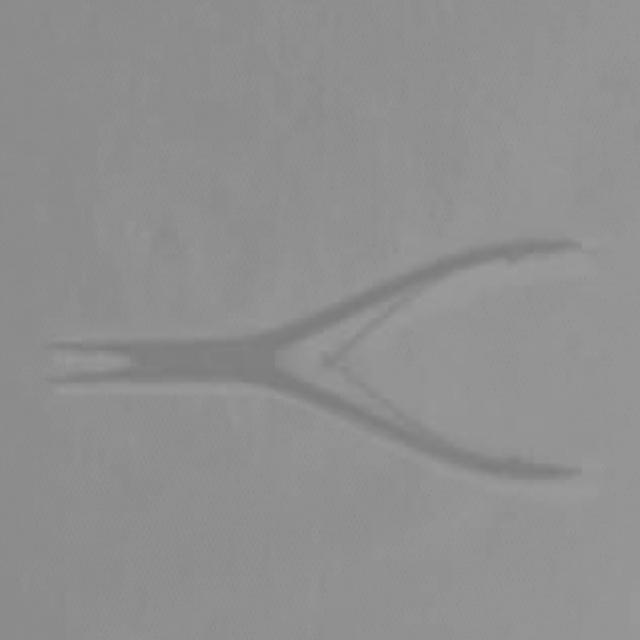gubia: (46, 241, 585, 486)
